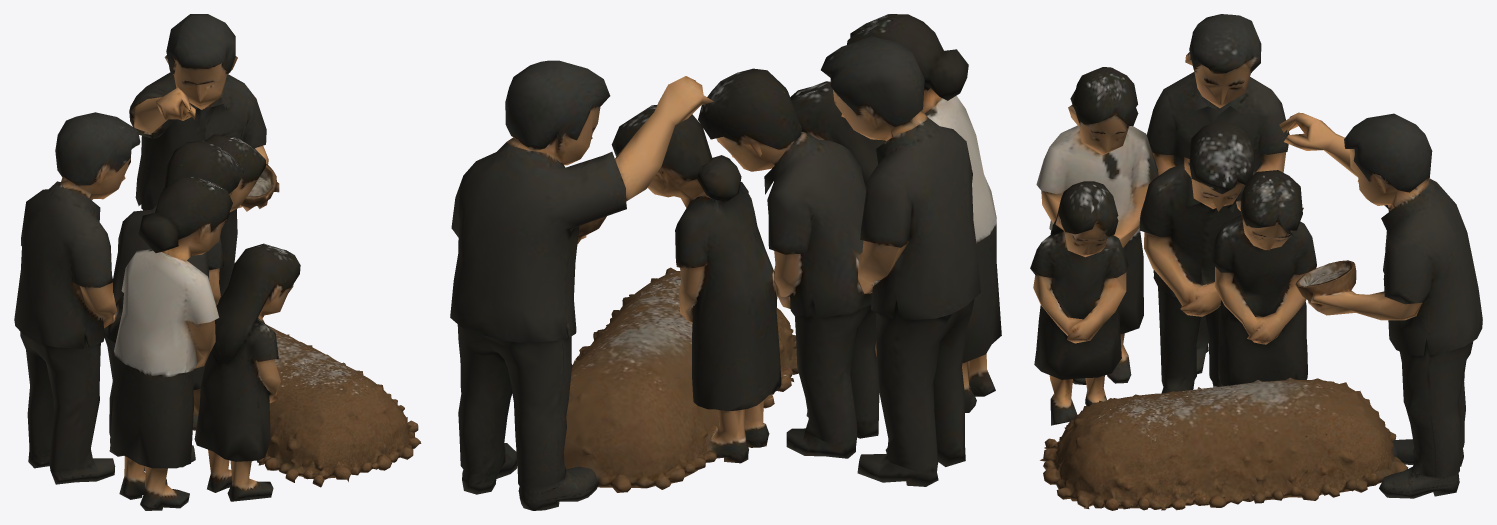
File: Sabwag-512(10k).glb
3 renders of one model, left to right at view 1: azimuth 30°, elevation 25°; view 2: azimuth 150°, elevation 25°; view 3: azimuth 270°, elevation 25°, orthographic. The views are drawn at different scales.
Visible parts, largest first — view 1: tripo_node_32e7d5de-a58a-4842-928e-027f0e625014; view 2: tripo_node_32e7d5de-a58a-4842-928e-027f0e625014; view 3: tripo_node_32e7d5de-a58a-4842-928e-027f0e625014.
Part boxes in pixels (<box>): tripo_node_32e7d5de-a58a-4842-928e-027f0e625014: <box>14,14,421,510</box>; tripo_node_32e7d5de-a58a-4842-928e-027f0e625014: <box>450,14,1001,510</box>; tripo_node_32e7d5de-a58a-4842-928e-027f0e625014: <box>1030,14,1482,510</box>.
Bounding box in the file's own units: 0.8985 × 0.8587 × 0.9817.
Materials: 1 (1 with a texture image).
